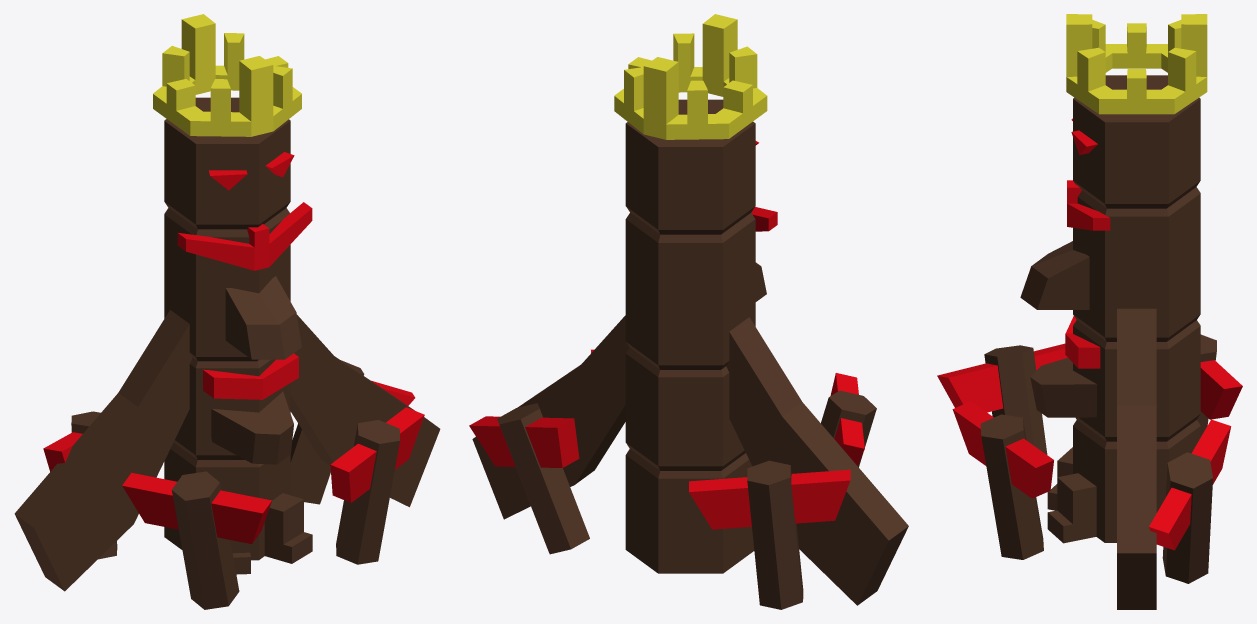
Rendered from Totem_teir4.fbx.
The picture shows the model from 3 angles, left to right: view 1: azimuth 30°, elevation 25°; view 2: azimuth 150°, elevation 25°; view 3: azimuth 270°, elevation 25°; orthographic projection. The views are drawn at different scales.
Parts seen in each view (by area): view 1: Cylinder.007, Cylinder.002, Cylinder.010, Cylinder.008; view 2: Cylinder.007, Cylinder.002, Cylinder.010, Cylinder.008; view 3: Cylinder.007, Cylinder.008, Cylinder.010.
Boxes of the visible parts, x1,y1,x2,y2 form: Cylinder.007: (43,97,424,609); Cylinder.002: (14,310,192,591); Cylinder.010: (153,14,301,136); Cylinder.008: (290,315,440,507); Cylinder.007: (469,99,876,609); Cylinder.002: (726,317,908,605); Cylinder.010: (614,14,767,139); Cylinder.008: (472,315,629,519); Cylinder.007: (937,75,1242,583); Cylinder.008: (1117,308,1156,609); Cylinder.010: (1066,14,1207,114).
Size of the model in its own units: 429 by 507 by 277.
